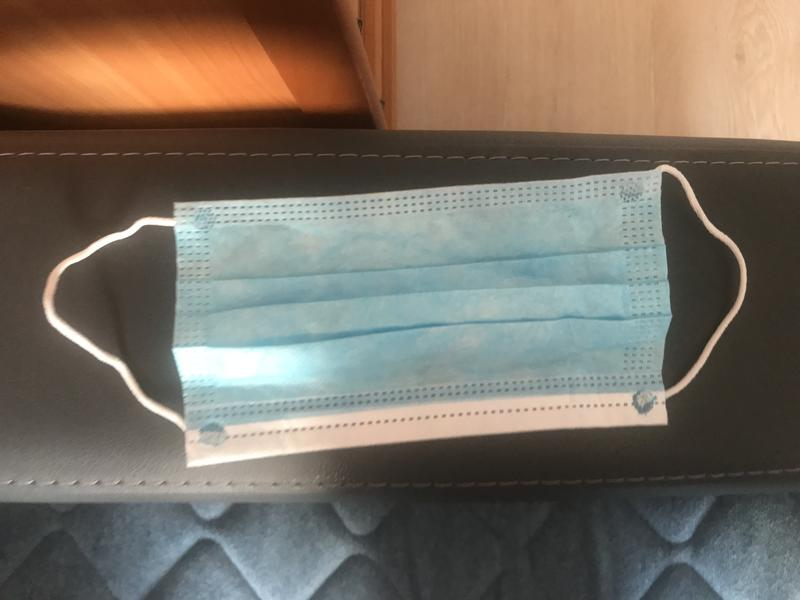medical_mask: (46, 164, 747, 471)
